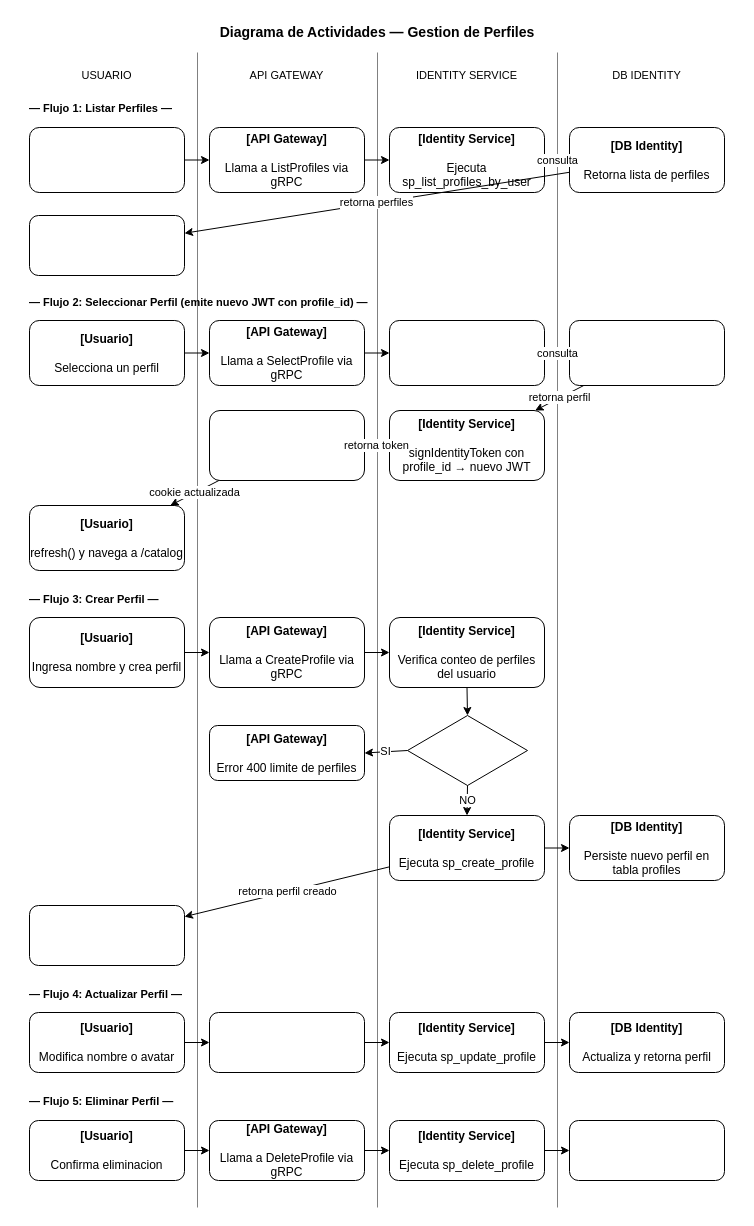
Some shapes in this 754 by 1226 pixel diagram are drawn without their labels. The centre of each missing label's shape, as x and y in pixels:
"[API Gateway] Actualiza cookie httpOnly con nuevo token" goes at point 286,445.
"[API Gateway] Llama a UpdateProfile via gRPC" goes at point 286,1042.
"[DB Identity] Elimina el perfil" goes at point 646,1150.
"[DB Identity] Retorna datos del perfil" goes at point 646,353.
"[Identity Service] Ejecuta sp_find_profile_by_user_and_profile" goes at point 466,353.
"[Usuario] Accede a /profiles" goes at point 106,159.
"[Usuario] loadProfiles() y visualiza nuevo perfil" goes at point 106,935.
"[Usuario] Visualiza tarjetas de perfiles" goes at point 106,245.
"¿Limite de 5 perfiles?" goes at point 467,750.
